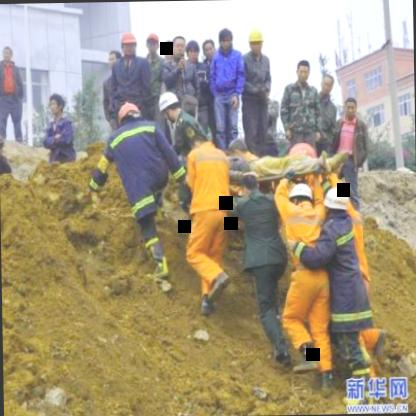head: (215, 24, 238, 53), (238, 174, 262, 200), (228, 136, 252, 162), (190, 134, 215, 158), (292, 58, 312, 85), (341, 96, 359, 120), (320, 71, 338, 95), (48, 93, 66, 116), (106, 48, 124, 70), (171, 35, 188, 58), (158, 38, 174, 62), (186, 39, 202, 63), (201, 38, 217, 61), (1, 41, 12, 66)
helmet: (282, 180, 315, 218), (322, 188, 348, 223), (158, 90, 182, 123), (245, 27, 267, 57), (118, 101, 142, 128), (119, 29, 139, 58)
